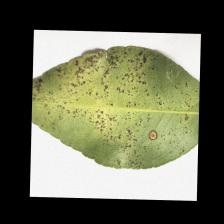canker: (69, 74, 142, 142)
